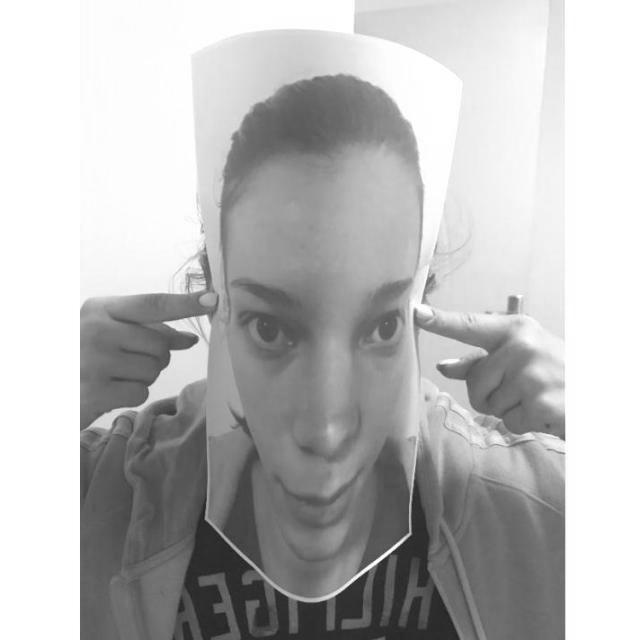fake: (186, 26, 464, 604)
